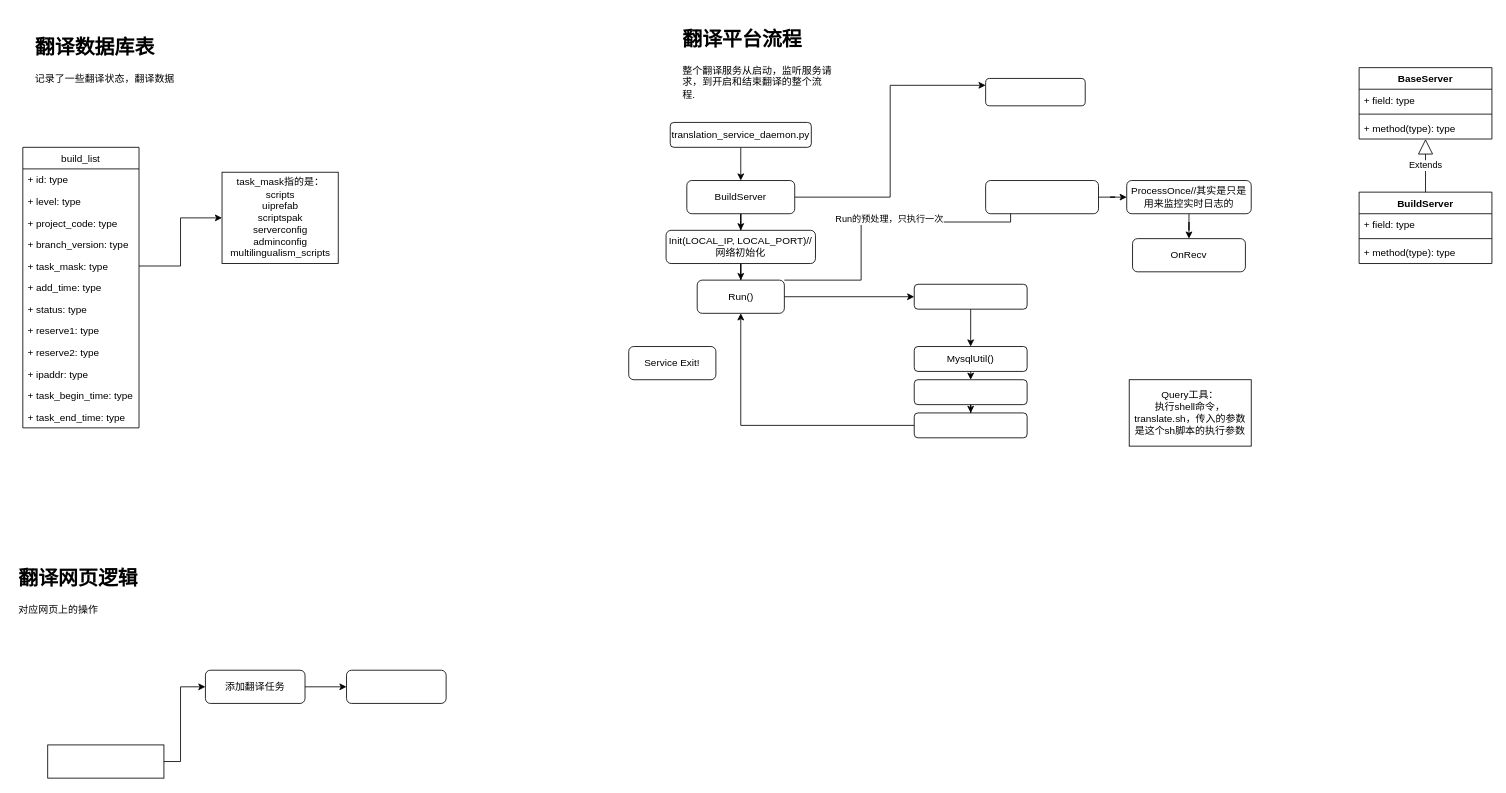
The diagram is 1506 pixels wide and 793 high, and some of its shapes have lost their labels. The centre of each missing label's shape, as x and y in pixels:
NetworkFunction（循环线程）: [1042,197]
TaskHandler(): [1035,92]
translation_queue.php: [105,761]
TryToRaiseTask: [970,425]
UpdateTask: [970,392]
Update（）: [970,296]
向数据库添加字段: [396,686]
